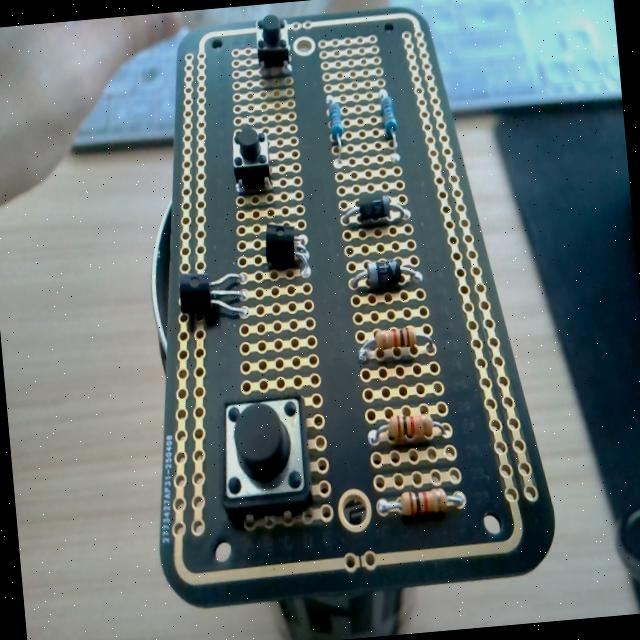diode: (348, 256, 423, 292), (340, 192, 408, 228)
resistor: (355, 326, 435, 364), (377, 486, 464, 520), (368, 411, 447, 447), (377, 87, 400, 156), (326, 94, 348, 164)
switch: (213, 394, 312, 514), (230, 122, 274, 193), (254, 12, 292, 76)
transistor: (176, 266, 251, 322), (260, 213, 314, 281)
